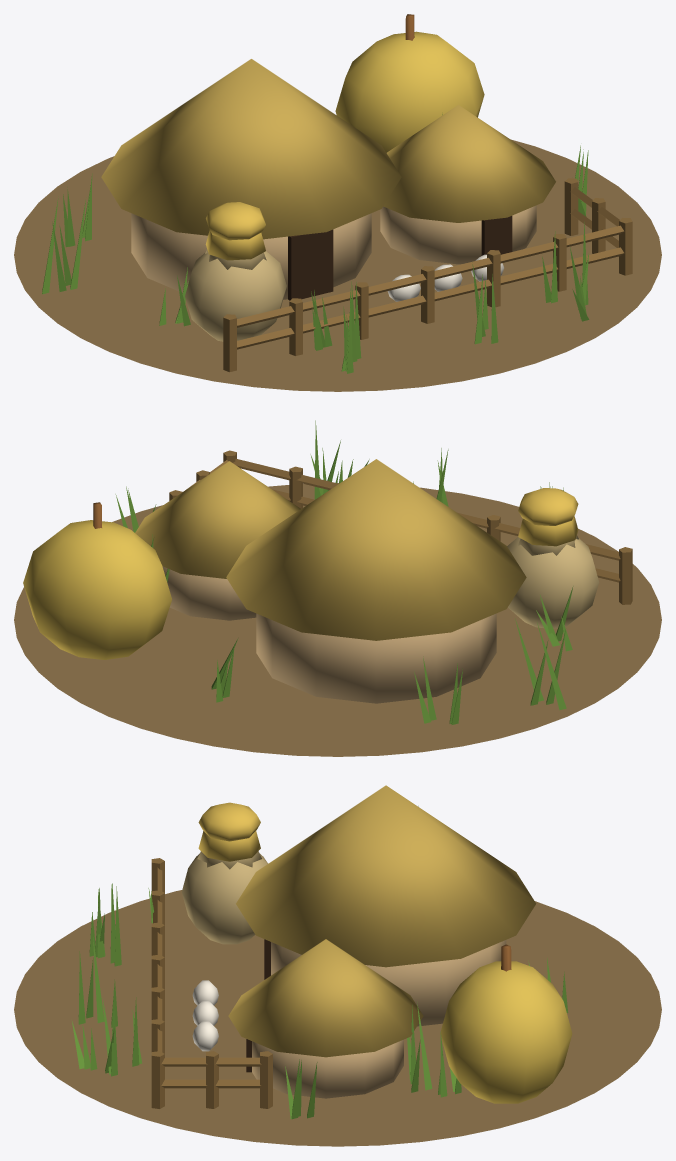
Rendered from improvement_farmhouse_0.fbx.
The picture shows the model from 3 angles, top to bottom: view 1: azimuth 30°, elevation 25°; view 2: azimuth 150°, elevation 25°; view 3: azimuth 270°, elevation 25°; orthographic projection.
Visible parts, largest first — view 1: improvement_farmhouse_0_gpatch#8a7048r_00, improvement_farmhouse_0_thatch.003_03, improvement_farmhouse_0_wood#8a6a3a.004_09, improvement_farmhouse_0_hay.001_05, improvement_farmhouse_0_mudwall.002_02, improvement_farmhouse_0_leaf#6a9a3a.021_01, improvement_farmhouse_0_burlap#c9b078.002_07, improvement_farmhouse_0_door.011_04, improvement_farmhouse_0_sackc#e0bc52_08, improvement_farmhouse_0_chicken_10; view 2: improvement_farmhouse_0_gpatch#8a7048r_00, improvement_farmhouse_0_thatch.003_03, improvement_farmhouse_0_mudwall.002_02, improvement_farmhouse_0_hay.001_05, improvement_farmhouse_0_burlap#c9b078.002_07, improvement_farmhouse_0_leaf#6a9a3a.021_01, improvement_farmhouse_0_wood#8a6a3a.004_09, improvement_farmhouse_0_sackc#e0bc52_08; view 3: improvement_farmhouse_0_gpatch#8a7048r_00, improvement_farmhouse_0_thatch.003_03, improvement_farmhouse_0_hay.001_05, improvement_farmhouse_0_mudwall.002_02, improvement_farmhouse_0_wood#8a6a3a.004_09, improvement_farmhouse_0_leaf#6a9a3a.021_01, improvement_farmhouse_0_burlap#c9b078.002_07, improvement_farmhouse_0_sackc#e0bc52_08, improvement_farmhouse_0_chicken_10.
Part boxes in pixels (bbox=[...]): improvement_farmhouse_0_gpatch#8a7048r_00: bbox=[14, 139, 661, 391]; improvement_farmhouse_0_thatch.003_03: bbox=[101, 59, 555, 239]; improvement_farmhouse_0_wood#8a6a3a.004_09: bbox=[223, 178, 632, 372]; improvement_farmhouse_0_hay.001_05: bbox=[335, 31, 484, 152]; improvement_farmhouse_0_mudwall.002_02: bbox=[131, 205, 536, 299]; improvement_farmhouse_0_leaf#6a9a3a.021_01: bbox=[42, 114, 589, 373]; improvement_farmhouse_0_burlap#c9b078.002_07: bbox=[185, 249, 286, 341]; improvement_farmhouse_0_door.011_04: bbox=[288, 216, 512, 300]; improvement_farmhouse_0_sackc#e0bc52_08: bbox=[205, 202, 265, 260]; improvement_farmhouse_0_chicken_10: bbox=[387, 254, 503, 301]; improvement_farmhouse_0_gpatch#8a7048r_00: bbox=[14, 483, 661, 756]; improvement_farmhouse_0_thatch.003_03: bbox=[135, 459, 526, 640]; improvement_farmhouse_0_mudwall.002_02: bbox=[162, 566, 496, 703]; improvement_farmhouse_0_hay.001_05: bbox=[23, 520, 171, 659]; improvement_farmhouse_0_burlap#c9b078.002_07: bbox=[507, 535, 599, 628]; improvement_farmhouse_0_leaf#6a9a3a.021_01: bbox=[115, 420, 573, 724]; improvement_farmhouse_0_wood#8a6a3a.004_09: bbox=[169, 450, 632, 604]; improvement_farmhouse_0_sackc#e0bc52_08: bbox=[518, 488, 578, 546]; improvement_farmhouse_0_gpatch#8a7048r_00: bbox=[14, 890, 661, 1146]; improvement_farmhouse_0_thatch.003_03: bbox=[228, 785, 536, 1057]; improvement_farmhouse_0_hay.001_05: bbox=[440, 961, 572, 1103]; improvement_farmhouse_0_mudwall.002_02: bbox=[252, 940, 506, 1098]; improvement_farmhouse_0_wood#8a6a3a.004_09: bbox=[151, 858, 272, 1108]; improvement_farmhouse_0_leaf#6a9a3a.021_01: bbox=[72, 806, 568, 1119]; improvement_farmhouse_0_burlap#c9b078.002_07: bbox=[181, 851, 268, 944]; improvement_farmhouse_0_sackc#e0bc52_08: bbox=[198, 802, 260, 861]; improvement_farmhouse_0_chicken_10: bbox=[192, 980, 218, 1051].
Bounding box in the file's own units: 108 × 38 × 108.
